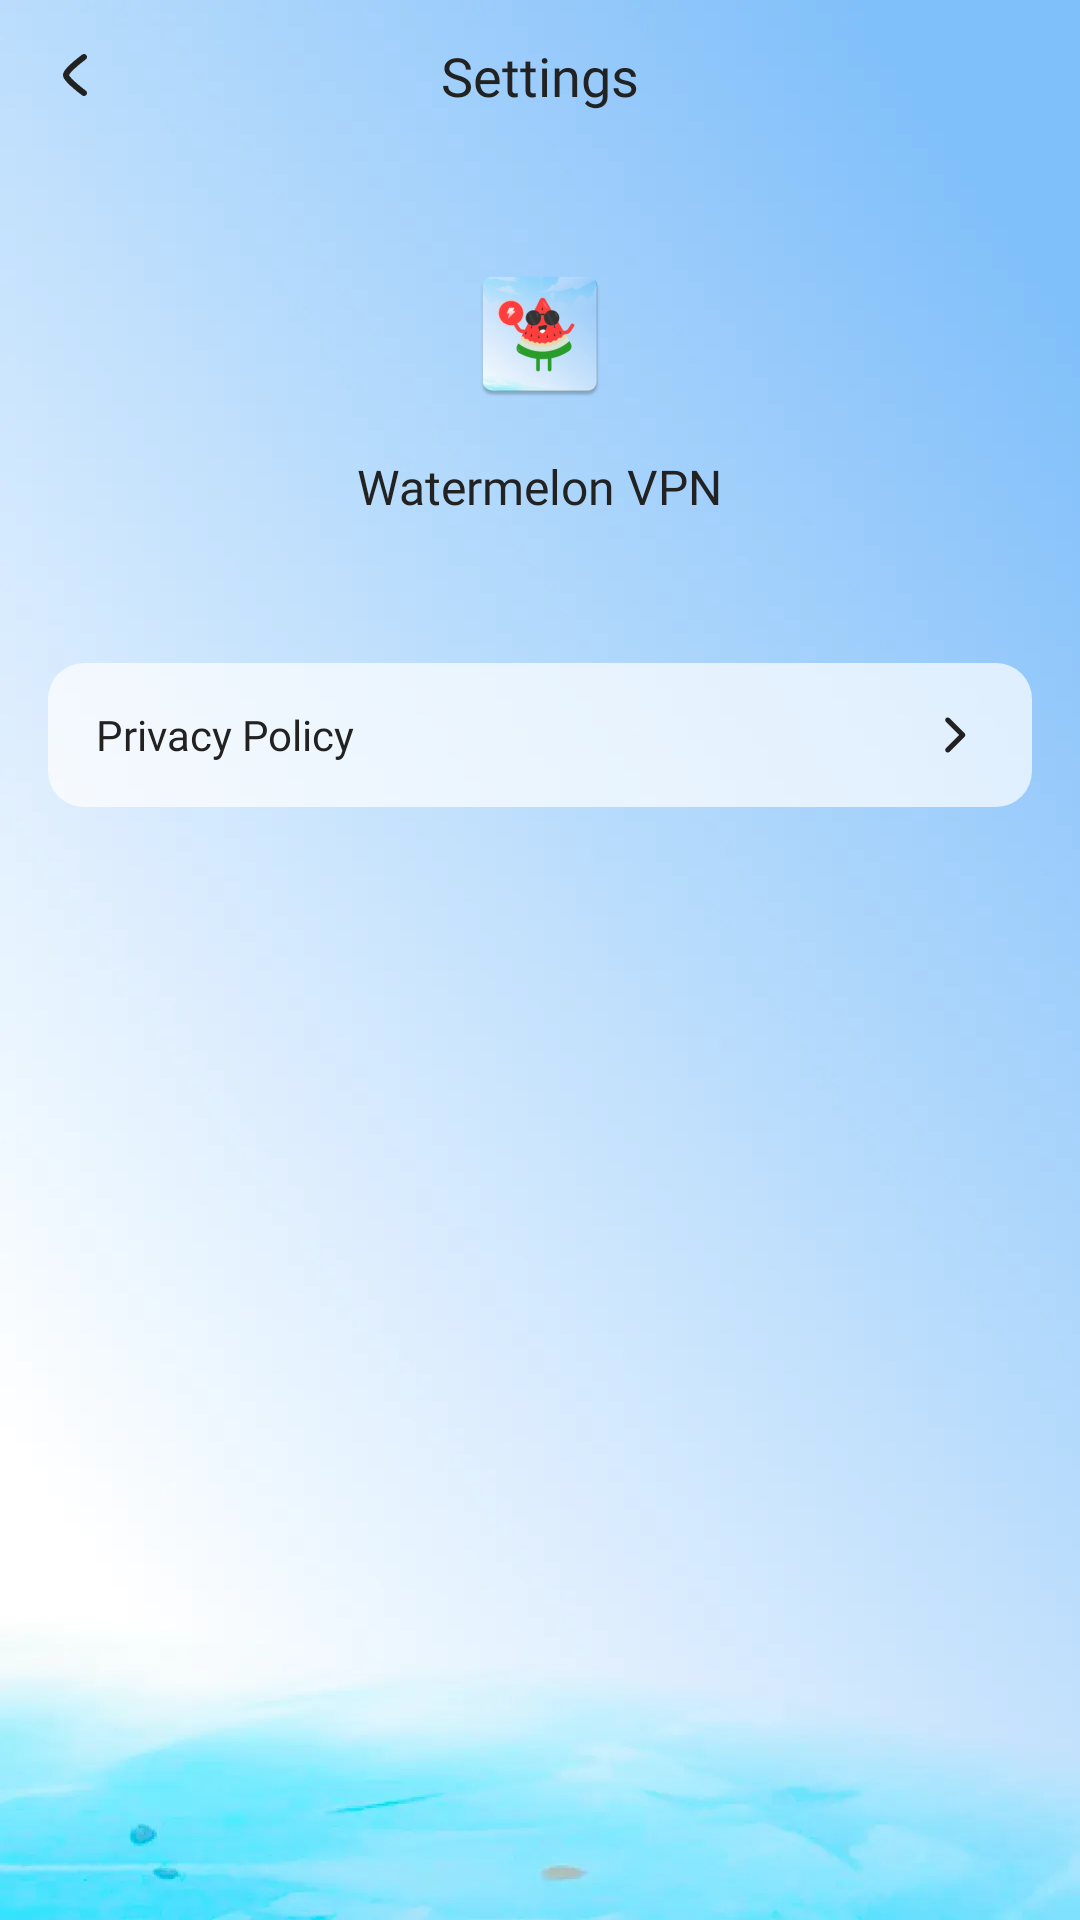

Icon click points for this 1080px x 1920px phone screenshot, format (x=x, y=y):
back: (x=75, y=75)
